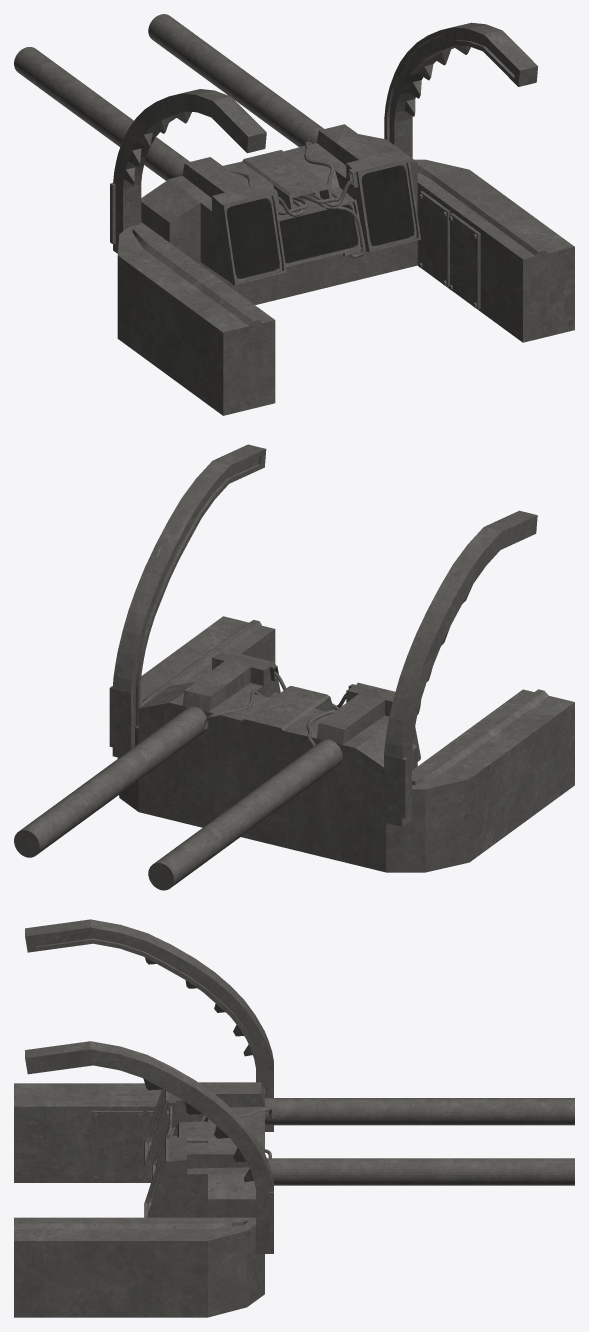
File: spaceship6.fbx
3 renders of one model, top to bottom at view 1: azimuth 30°, elevation 25°; view 2: azimuth 150°, elevation 25°; view 3: azimuth 270°, elevation 25°, orthographic. The views are drawn at different scales.
Parts seen in each view (by area): view 1: spaceship base, spaceship barrels; view 2: spaceship base, spaceship barrels; view 3: spaceship base, spaceship barrels.
Boxes of the visible parts, x1,y1,x2,y2 form: spaceship base: [110, 22, 574, 415]; spaceship barrels: [14, 14, 323, 180]; spaceship base: [109, 444, 574, 872]; spaceship barrels: [14, 706, 342, 890]; spaceship base: [14, 919, 274, 1317]; spaceship barrels: [264, 1098, 574, 1185].
Bounding box in the file's own units: 212 × 159 × 318.
2 materials, 2 textured.
